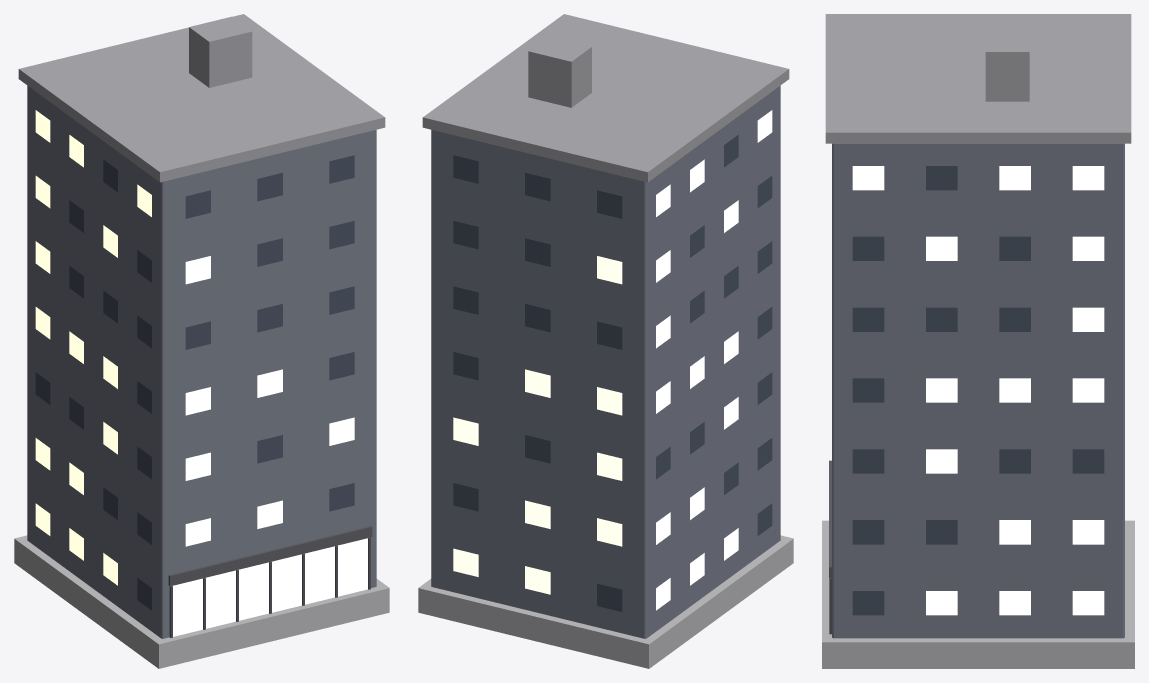
The model's file is bt-fh6-bldg-b.glb.
3 renders of one model, left to right at view 1: azimuth 30°, elevation 25°; view 2: azimuth 150°, elevation 25°; view 3: azimuth 270°, elevation 25°, orthographic. The views are drawn at different scales.
Visible parts, largest first — view 1: bt-fh6-bldg-b_body, bt-fh6-bldg-b_cornice, bt-fh6-bldg-b_skirt, bt-fh6-bldg-b_storefront, bt-fh6-bldg-b_roofbox, bt-fh6-bldg-b_storehead, bt-fh6-bldg-b_wf6_1, bt-fh6-bldg-b_wf1_1, bt-fh6-bldg-b_wf3_0, bt-fh6-bldg-b_wf5_2, bt-fh6-bldg-b_wf1_2, bt-fh6-bldg-b_wf2_0 (+12 smaller); view 2: bt-fh6-bldg-b_body, bt-fh6-bldg-b_cornice, bt-fh6-bldg-b_skirt, bt-fh6-bldg-b_roofbox, bt-fh6-bldg-b_wb6_1, bt-fh6-bldg-b_wb0_2, bt-fh6-bldg-b_wb1_1, bt-fh6-bldg-b_wb3_0, bt-fh6-bldg-b_wb5_2, bt-fh6-bldg-b_wb0_1, bt-fh6-bldg-b_wb1_2, bt-fh6-bldg-b_wb2_0 (+13 smaller); view 3: bt-fh6-bldg-b_body, bt-fh6-bldg-b_cornice, bt-fh6-bldg-b_skirt, bt-fh6-bldg-b_roofbox, bt-fh6-bldg-b_ws1_0, bt-fh6-bldg-b_ws1_3, bt-fh6-bldg-b_ws2_0, bt-fh6-bldg-b_ws2_3, bt-fh6-bldg-b_ws3_0, bt-fh6-bldg-b_ws3_3, bt-fh6-bldg-b_ws0_0, bt-fh6-bldg-b_ws0_3 (+20 smaller).
Boxes of the visible parts, left/top/right/bottom form: bt-fh6-bldg-b_body: left=27, top=85, right=376, bottom=638; bt-fh6-bldg-b_cornice: left=18, top=14, right=385, bottom=182; bt-fh6-bldg-b_skirt: left=14, top=535, right=389, bottom=668; bt-fh6-bldg-b_storefront: left=173, top=538, right=367, bottom=636; bt-fh6-bldg-b_roofbox: left=189, top=16, right=252, bottom=87; bt-fh6-bldg-b_storehead: left=168, top=526, right=372, bottom=586; bt-fh6-bldg-b_wf6_1: left=257, top=172, right=282, bottom=201; bt-fh6-bldg-b_wf1_1: left=257, top=500, right=282, bottom=528; bt-fh6-bldg-b_wf3_0: left=185, top=387, right=210, bottom=415; bt-fh6-bldg-b_wf5_2: left=329, top=221, right=354, bottom=249; bt-fh6-bldg-b_wf1_2: left=329, top=483, right=354, bottom=511; bt-fh6-bldg-b_wf2_0: left=185, top=452, right=210, bottom=480; bt-fh6-bldg-b_body: left=431, top=85, right=780, bottom=638; bt-fh6-bldg-b_cornice: left=422, top=14, right=789, bottom=182; bt-fh6-bldg-b_skirt: left=418, top=535, right=793, bottom=668; bt-fh6-bldg-b_roofbox: left=528, top=36, right=591, bottom=107; bt-fh6-bldg-b_wb6_1: left=525, top=172, right=550, bottom=201; bt-fh6-bldg-b_wb0_2: left=453, top=548, right=478, bottom=576; bt-fh6-bldg-b_wb1_1: left=525, top=500, right=550, bottom=528; bt-fh6-bldg-b_wb3_0: left=597, top=387, right=622, bottom=415; bt-fh6-bldg-b_wb5_2: left=453, top=221, right=478, bottom=249; bt-fh6-bldg-b_wb0_1: left=525, top=566, right=550, bottom=594; bt-fh6-bldg-b_wb1_2: left=453, top=483, right=478, bottom=511; bt-fh6-bldg-b_wb2_0: left=597, top=452, right=622, bottom=480; bt-fh6-bldg-b_body: left=832, top=143, right=1124, bottom=638; bt-fh6-bldg-b_cornice: left=825, top=14, right=1131, bottom=143; bt-fh6-bldg-b_skirt: left=822, top=520, right=1134, bottom=668; bt-fh6-bldg-b_roofbox: left=985, top=29, right=1029, bottom=101; bt-fh6-bldg-b_ws1_0: left=1072, top=520, right=1104, bottom=544; bt-fh6-bldg-b_ws1_3: left=852, top=520, right=884, bottom=544; bt-fh6-bldg-b_ws2_0: left=1072, top=449, right=1104, bottom=473; bt-fh6-bldg-b_ws2_3: left=852, top=449, right=884, bottom=473; bt-fh6-bldg-b_ws3_0: left=1072, top=378, right=1104, bottom=402; bt-fh6-bldg-b_ws3_3: left=852, top=378, right=884, bottom=402; bt-fh6-bldg-b_ws0_0: left=1072, top=591, right=1104, bottom=615; bt-fh6-bldg-b_ws0_3: left=852, top=591, right=884, bottom=615.
Size of the model in its own units: 11.8 by 26.4 by 12.8.
